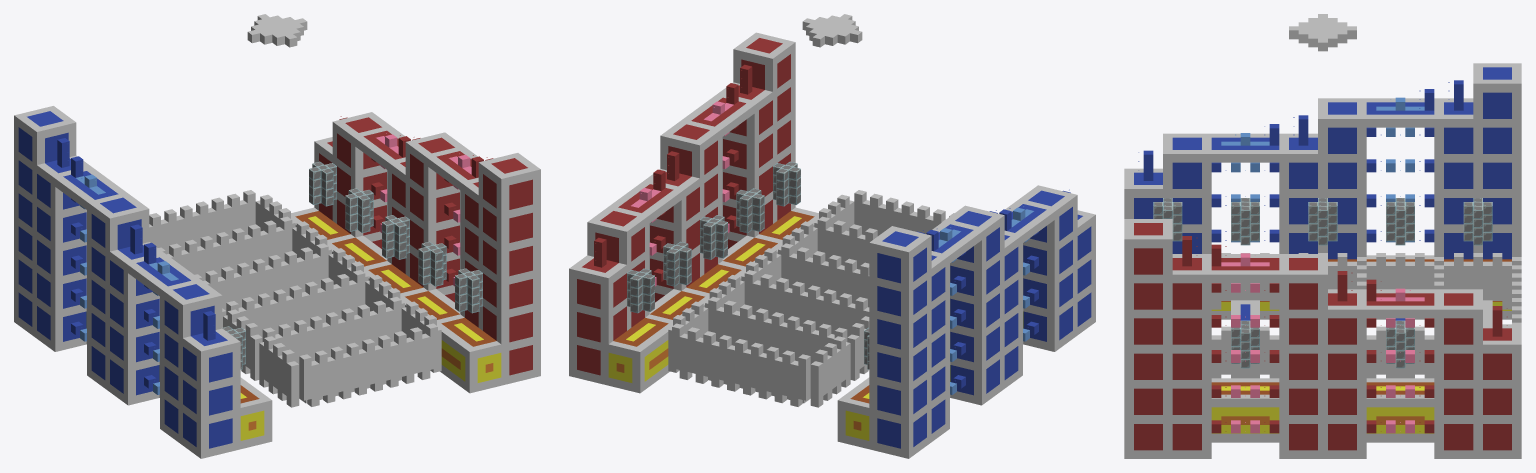
File: minecraft.obj
3 views of the same model, side by side, from view 1: azimuth 30°, elevation 25°; view 2: azimuth 150°, elevation 25°; view 3: azimuth 270°, elevation 25° (orthographic). The views are drawn at different scales.
Size of the model in its own units: 43 by 39 by 41.
